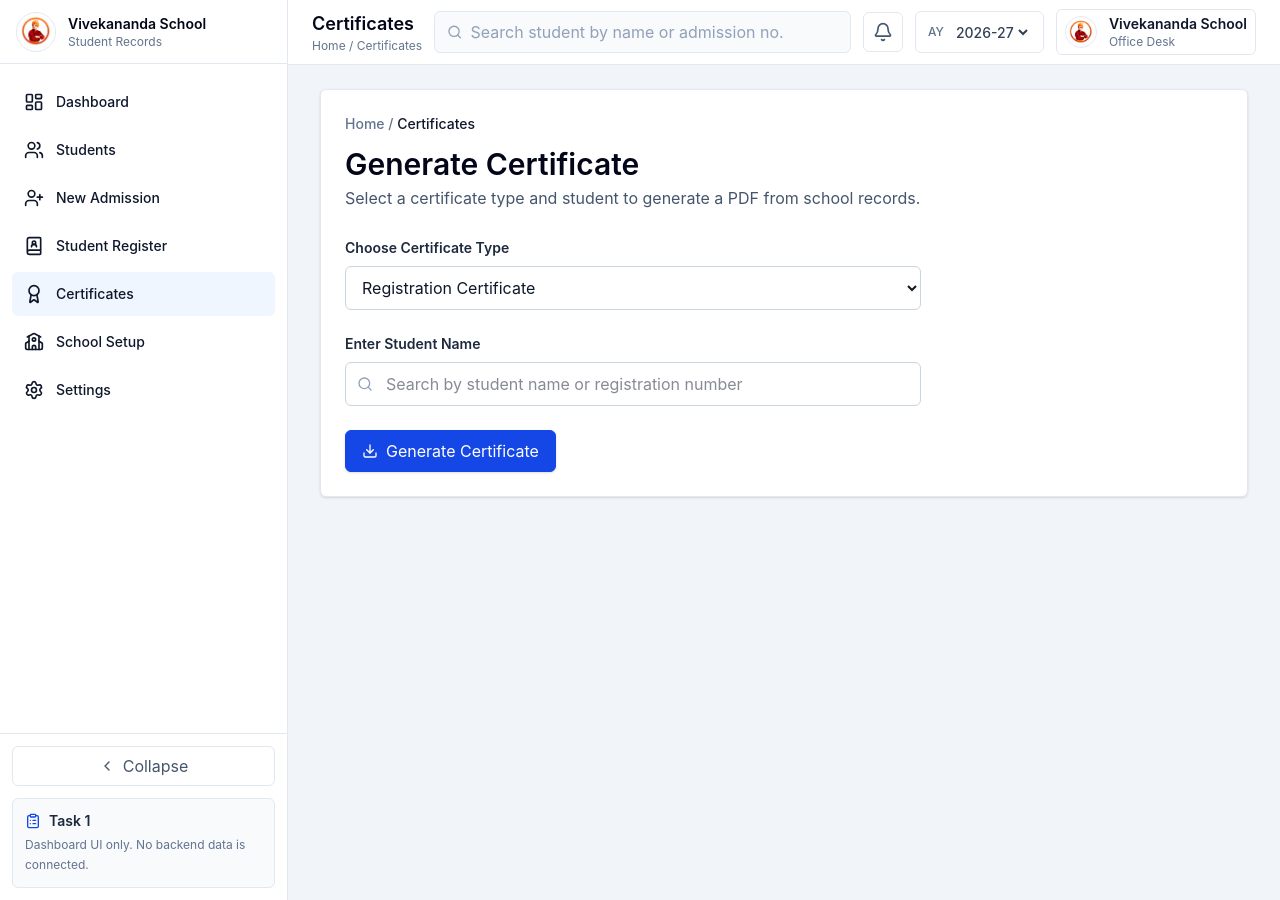
it: student register › shows a clear error when certificate generation fails
Type "Ananya" into the field labelled "Enter Student Name" at (633,384), box [345,362,921,406]
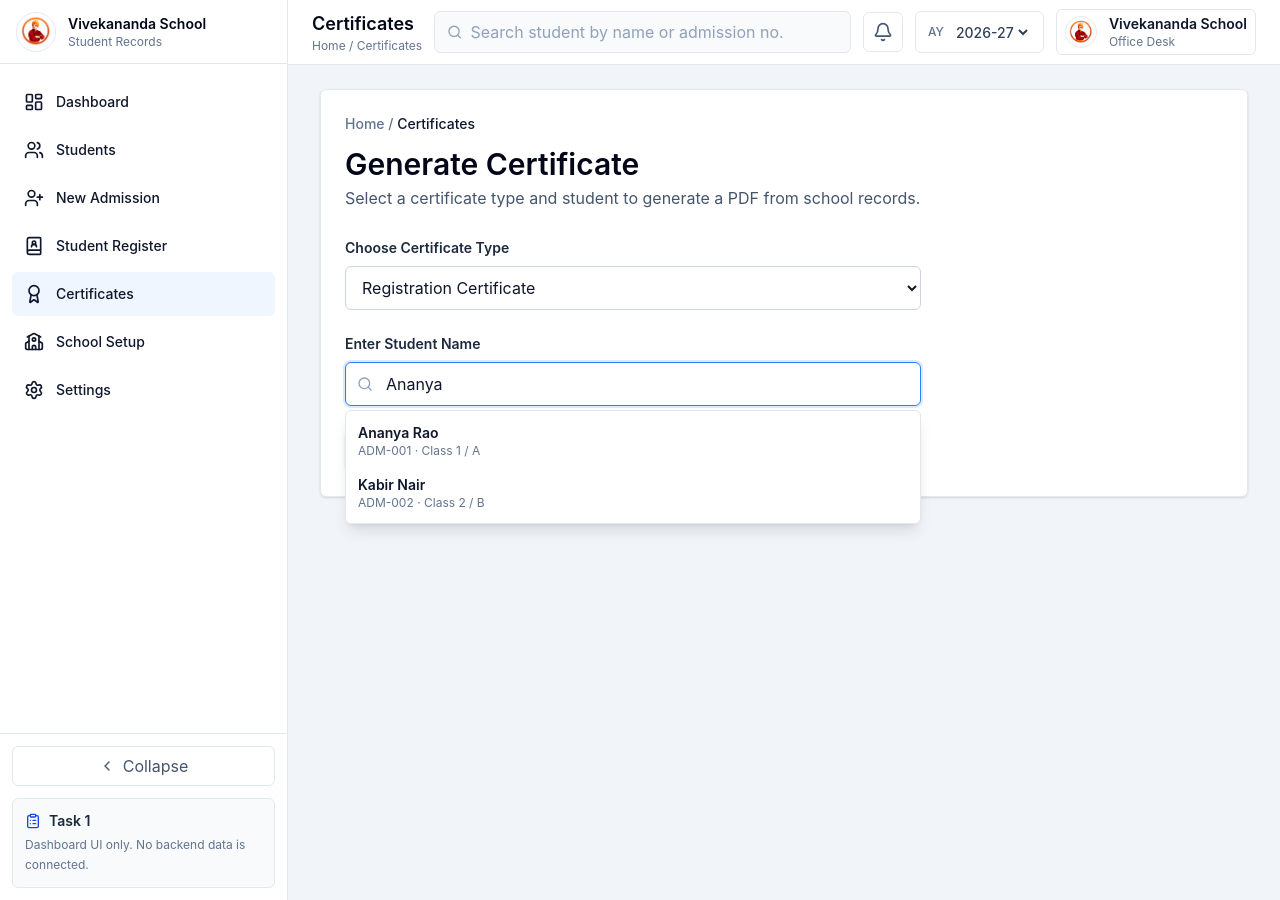
Click the option "Ananya Rao ADM-001 · Class 1 / A" at (398,432), box [346,415,920,467]
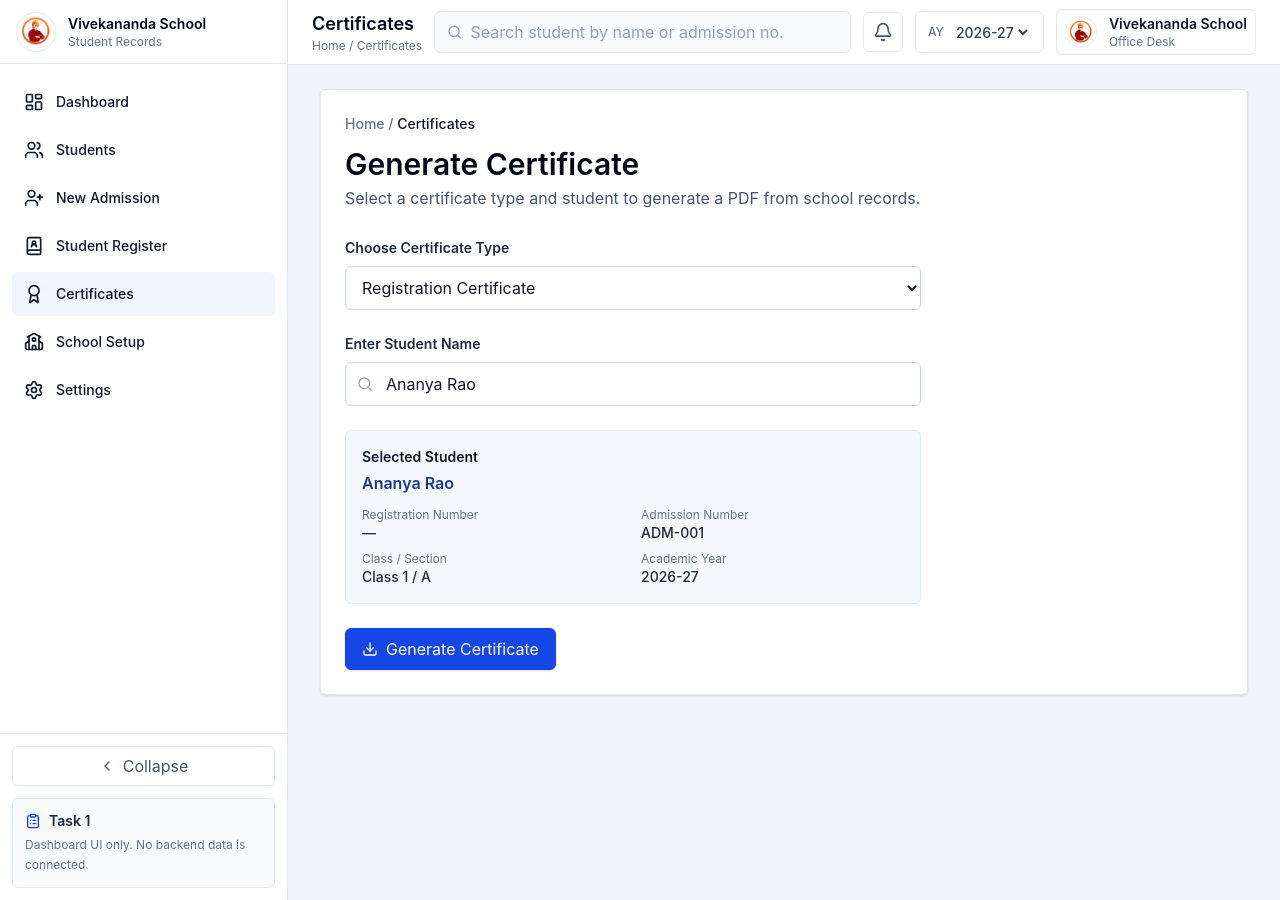
Click the button "Generate Certificate" at (450,649), box [345,628,556,670]
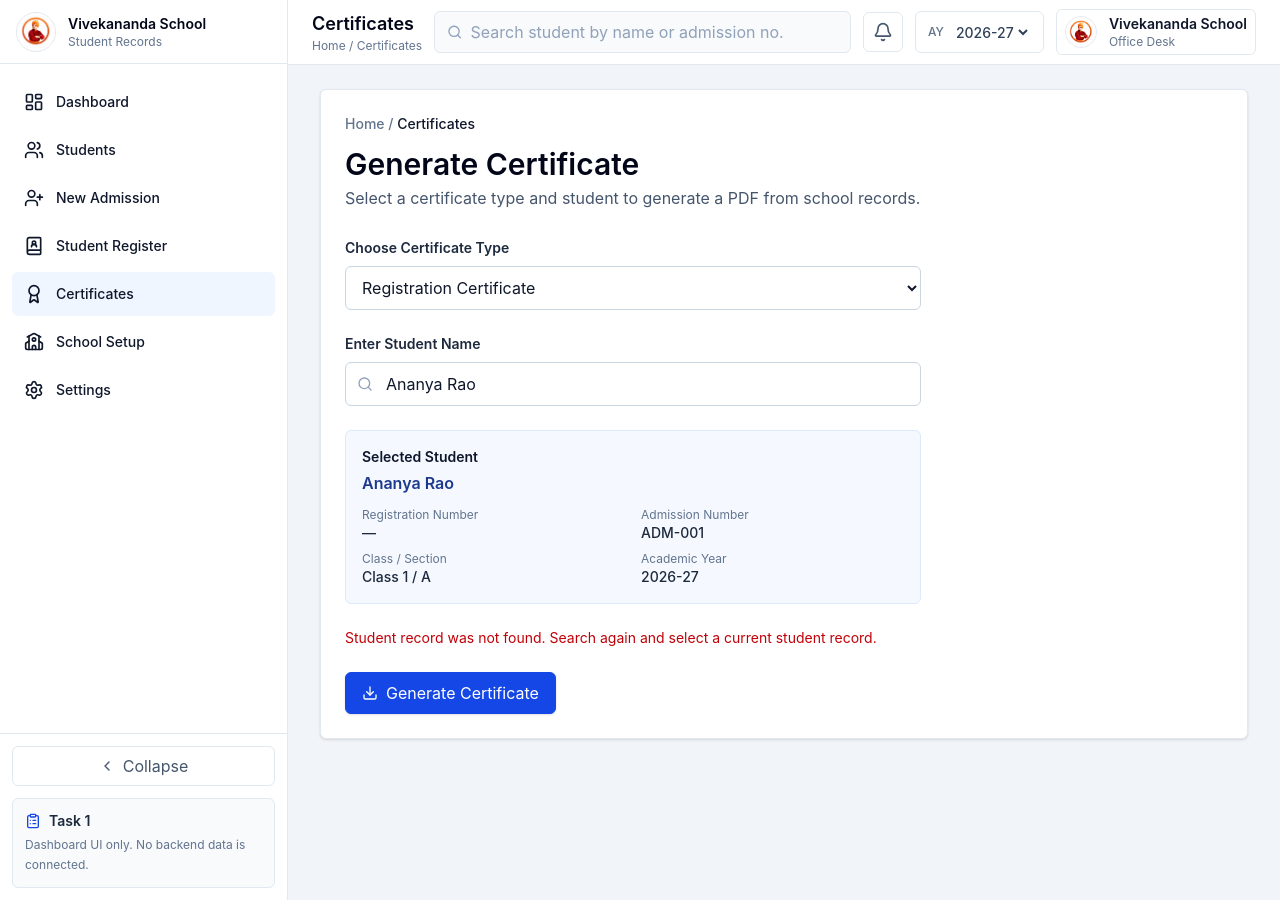
Expected: the message shows "Student record was not found", [345,629,877,646]
